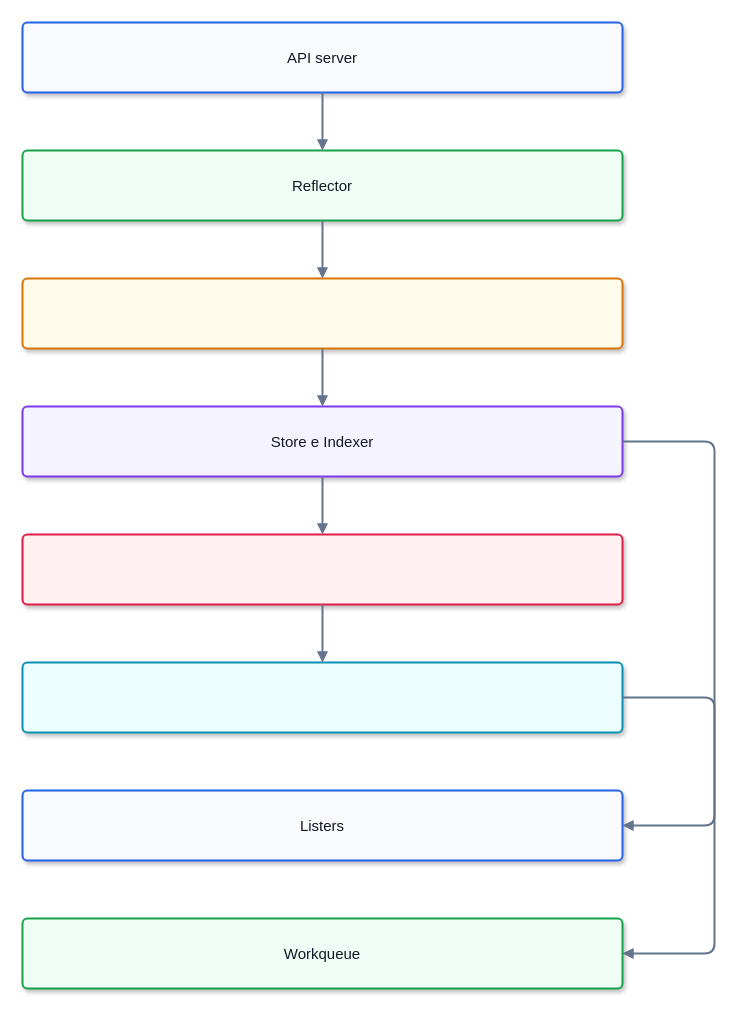
The diagram is 740 pixels wide and 1013 high, and some of its shapes have lost their labels. Each missing label, with the centre of its shape:
"DeltaFIFO" goes at point (323, 314).
"Handlers" goes at point (323, 698).
"SharedIndexInformer" goes at point (323, 570).
